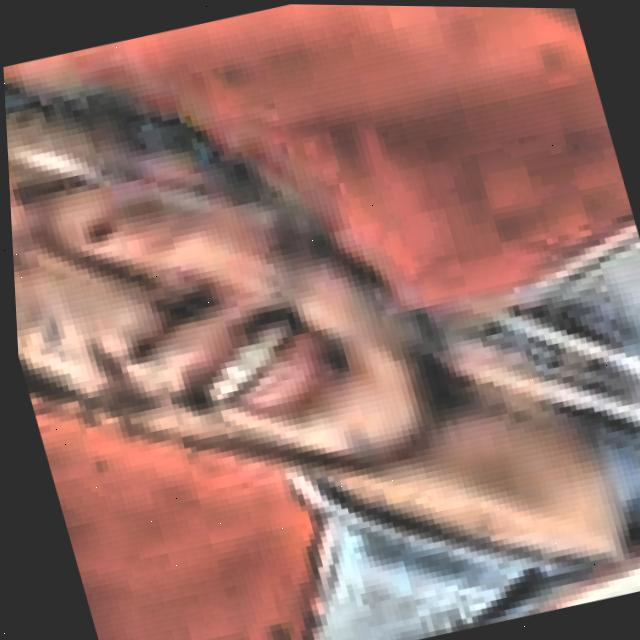paper: (3, 3, 640, 640)
